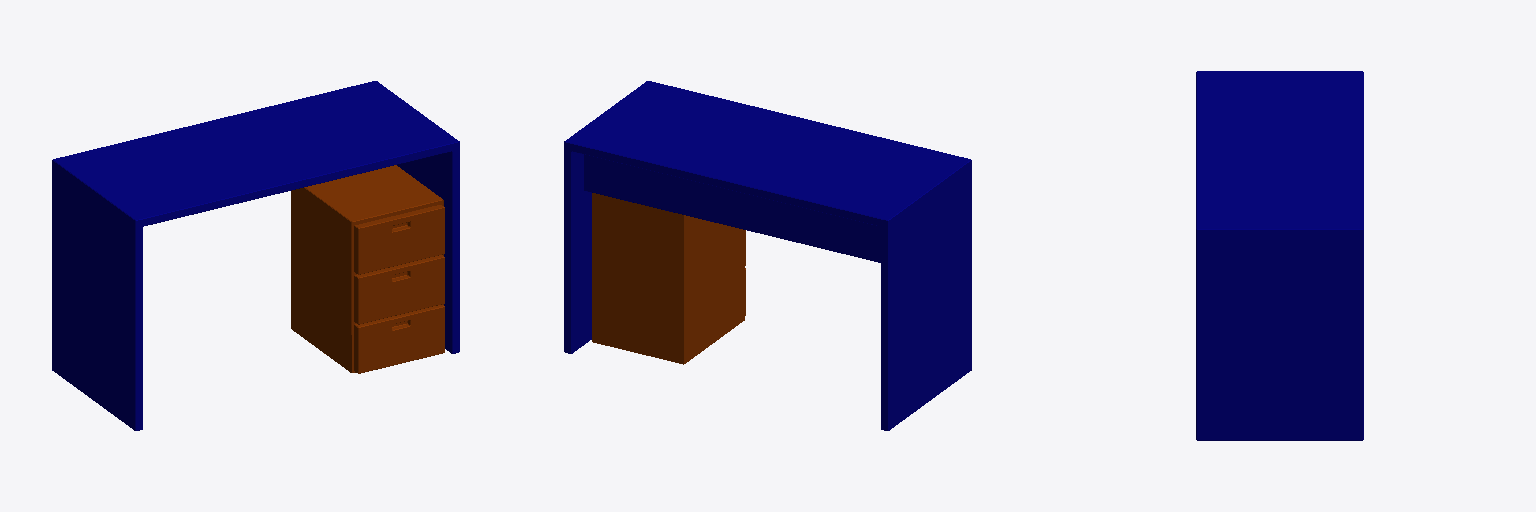
File: Librero.obj
3 renders of one model, left to right at view 1: azimuth 30°, elevation 25°; view 2: azimuth 150°, elevation 25°; view 3: azimuth 270°, elevation 25°, orthographic.
Parts seen in each view (by area): view 1: Line01, Box01; view 2: Line01, Box01; view 3: Line01.
Boxes of the visible parts, box(x1,y1,x2,y2) form: Line01: box(52, 81, 459, 430); Box01: box(291, 165, 444, 373); Line01: box(564, 81, 971, 430); Box01: box(592, 193, 745, 364); Line01: box(1196, 71, 1363, 440).
Size of the model in its own units: 12.3 by 7.65 by 5.5.